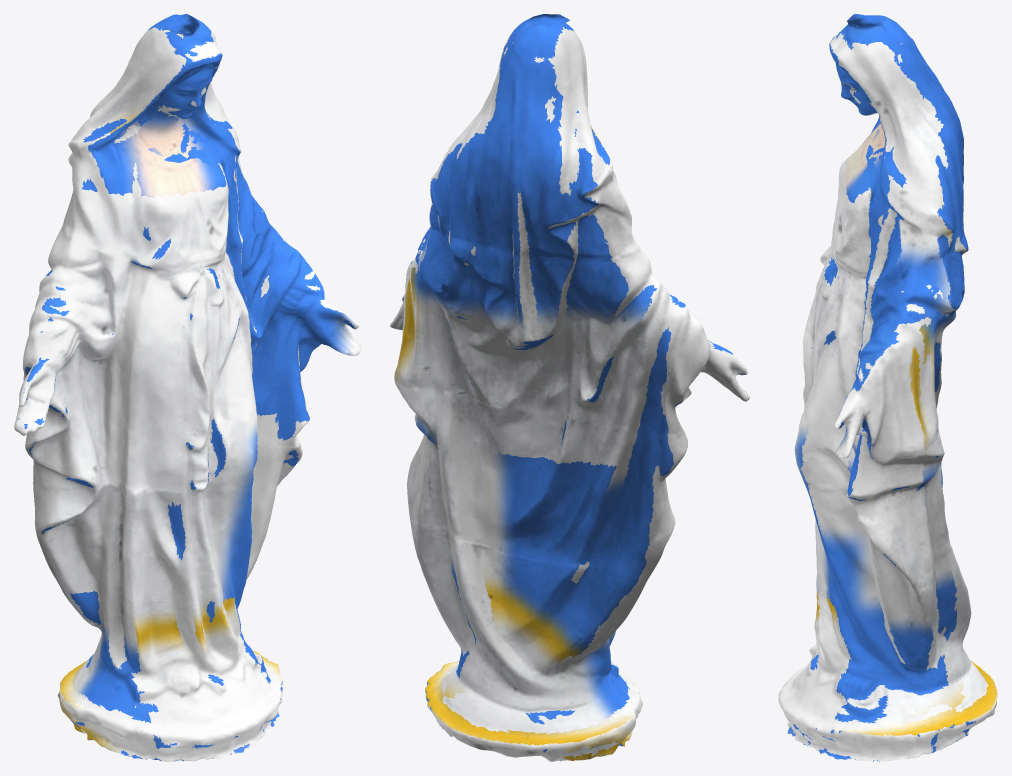
Rendered from Mary_Statue_V2.glb.
3 renders of one model, left to right at view 1: azimuth 30°, elevation 25°; view 2: azimuth 150°, elevation 25°; view 3: azimuth 270°, elevation 25°, orthographic.
Visible parts, largest first — view 1: Object_2, Object_3; view 2: Object_2, Object_3; view 3: Object_3, Object_2.
Part boxes in pixels (x1,y1,x2,y2): Object_2: (14, 74, 302, 745); Object_3: (37, 14, 361, 761); Object_2: (407, 148, 749, 757); Object_3: (390, 14, 663, 761); Object_3: (778, 14, 997, 761); Object_2: (779, 88, 997, 735).
Size of the model in its own units: 0.378 by 0.725 by 0.2041.
1 material, 1 textured.
